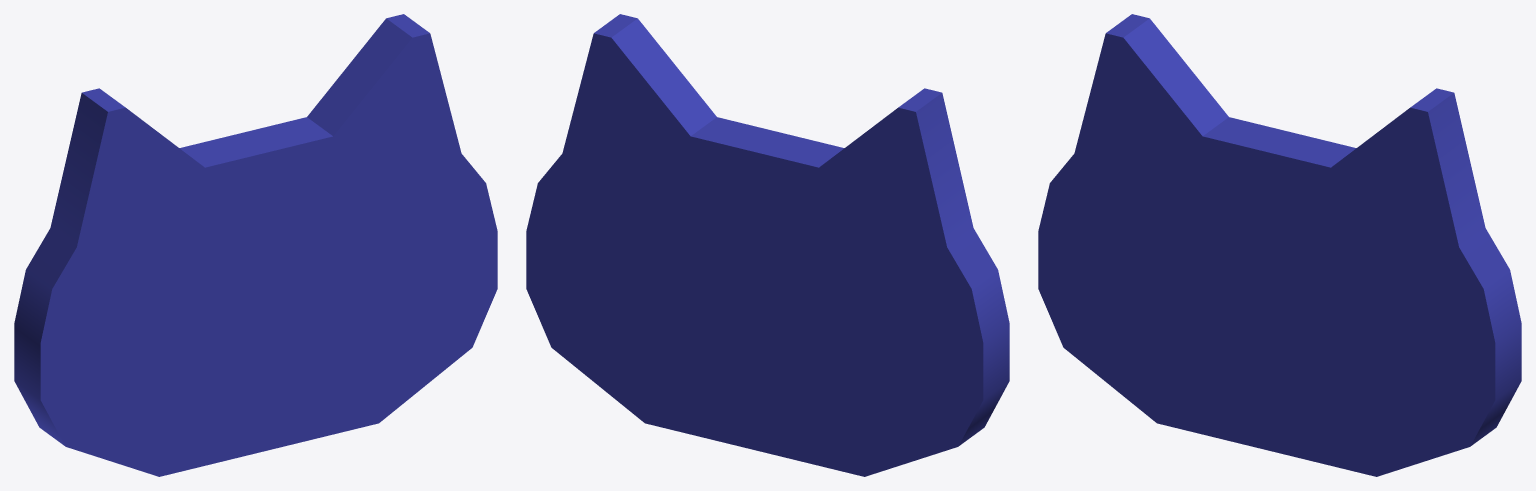
Rendered from cookieCat.FBX.
3 views of the same model, side by side, from view 1: azimuth 30°, elevation 25°; view 2: azimuth 150°, elevation 25°; view 3: azimuth 330°, elevation 25° (orthographic).
Parts seen in each view (by area): view 1: cookieCat; view 2: cookieCat; view 3: cookieCat.
Part boxes in pixels (x1,y1,x2,y2): cookieCat: (14, 14, 497, 476); cookieCat: (526, 14, 1009, 476); cookieCat: (1038, 14, 1521, 476).
Bounding box in the file's own units: 1 × 0.7891 × 0.1.
